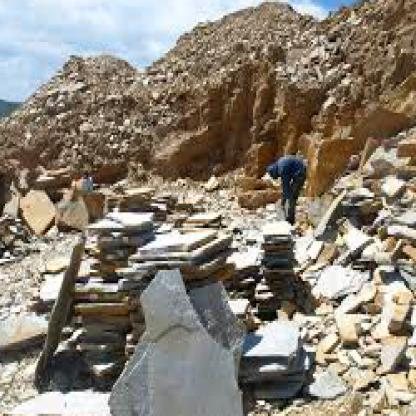Metamorphic_Quartize: (108, 263, 248, 414)
